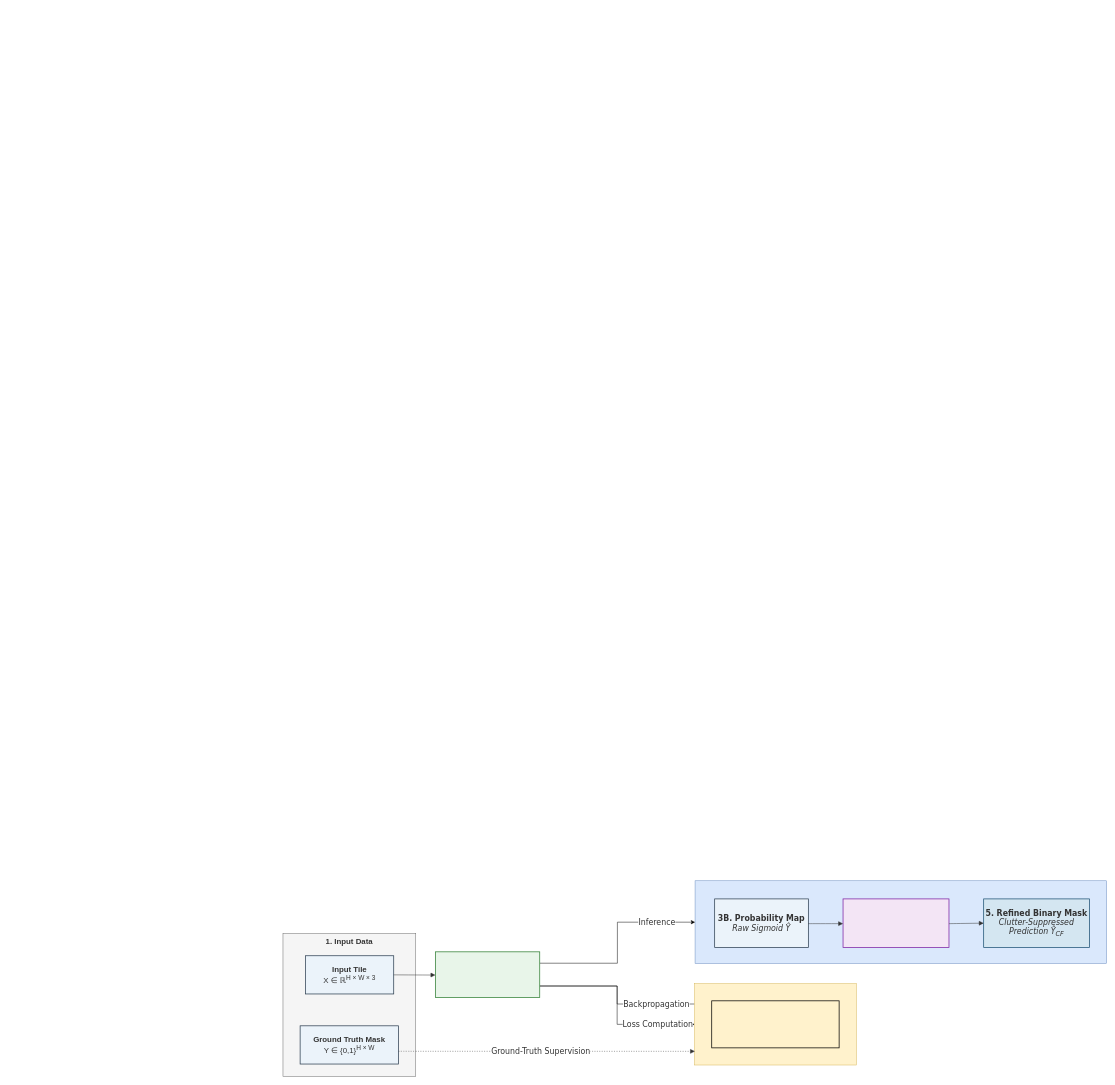
The diagram is 1115 pixels wide and 1085 high, and some of its shapes have lost their labels. Each missing label, with the centre of its shape:
2. Segmentation Network U-Net Architecture (EfficientNet-B0 Encoder): (487,974)
3A. CB Loss Module 𝓛 CB Component-Balance Loss: (775,1024)
4. Confidence Filter (CF) Confidence-Guided Component Pruning: (895,923)
